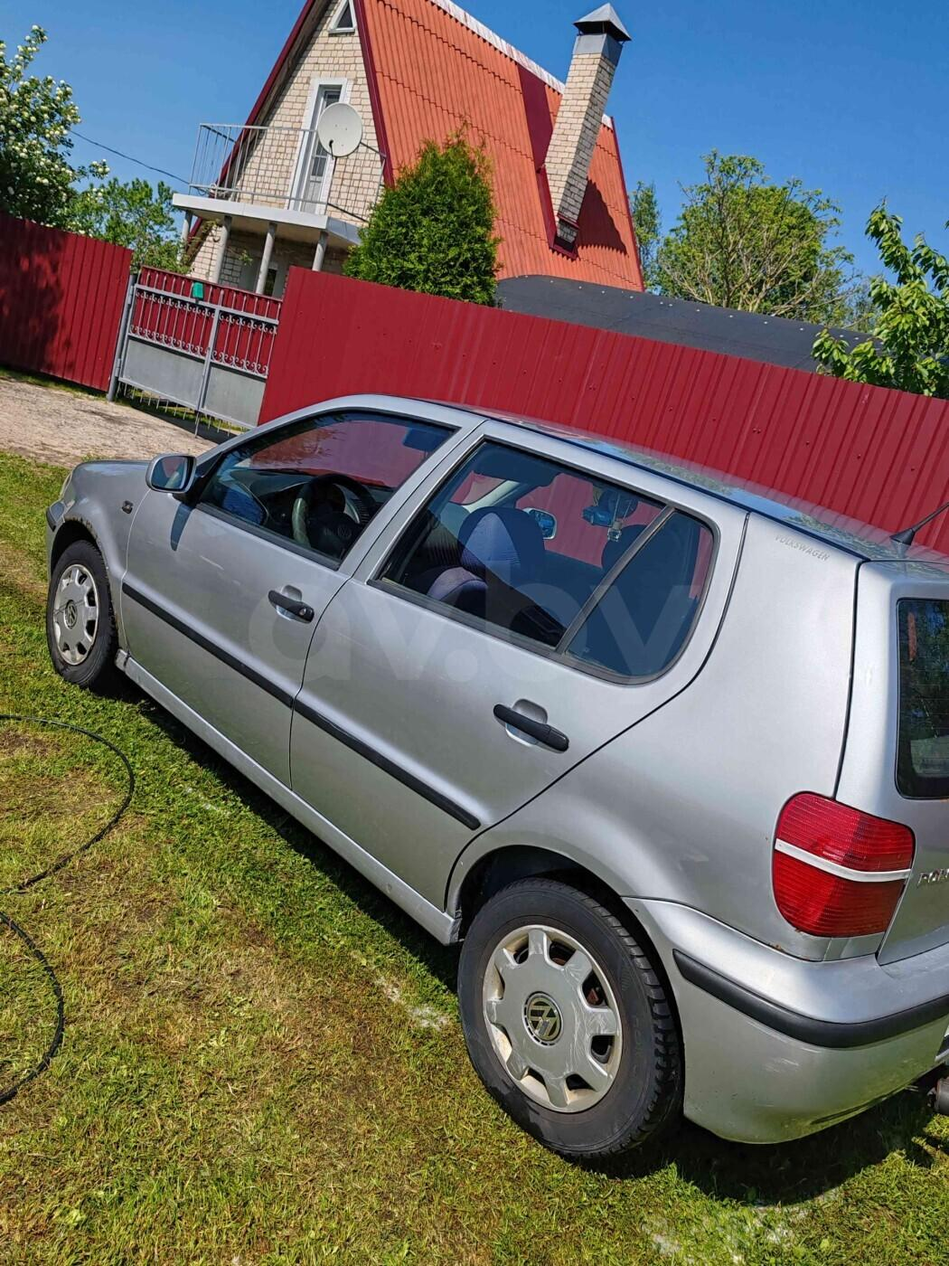Polo_2000-2002: (41, 376, 949, 1197)
